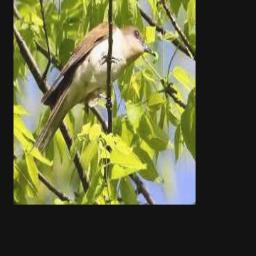Cuckoo: (29, 23, 156, 170)
